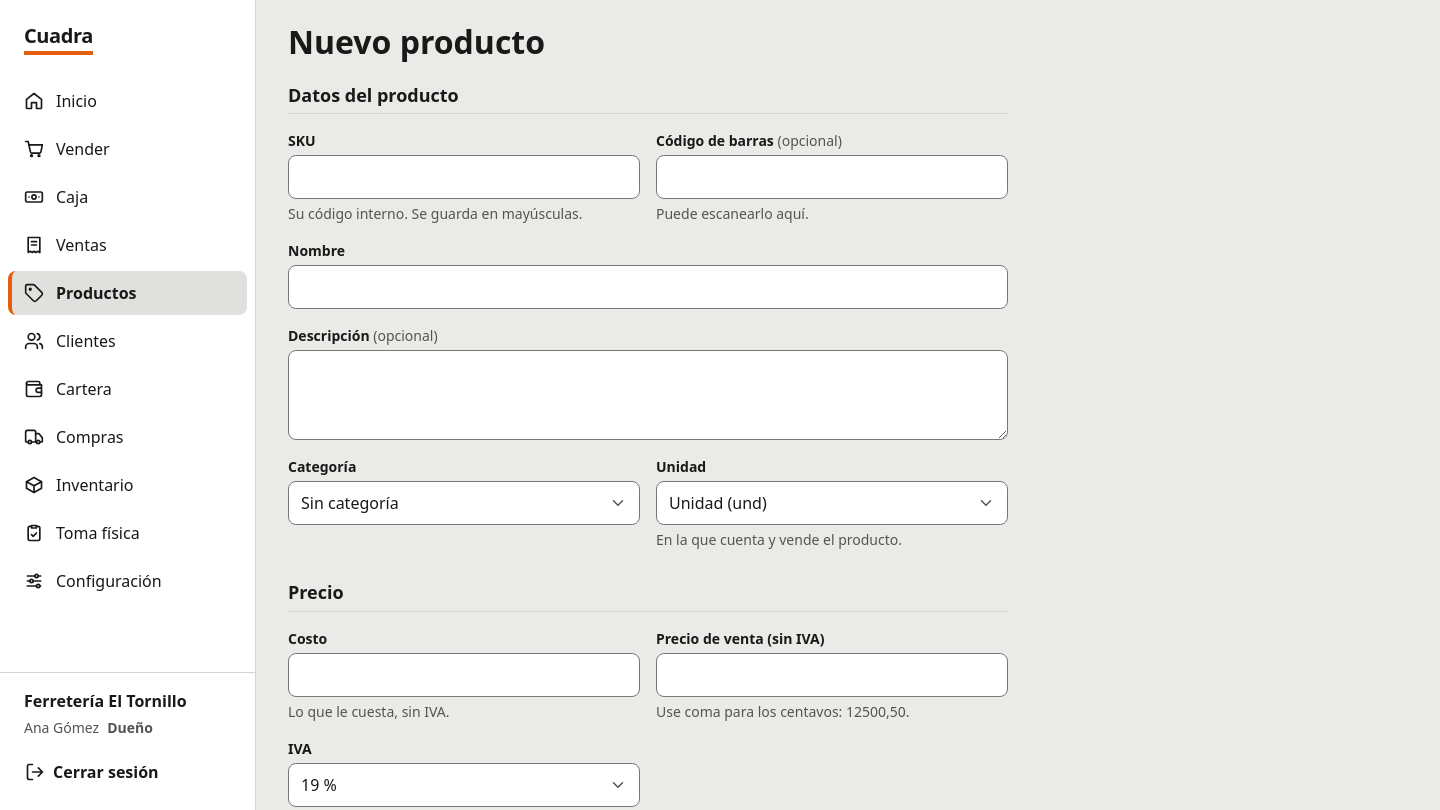
Scenario: ProductFormPage: crear un producto › ofrece las unidades de la empresa
Click the dropdown labelled "Unidad". click: [718, 503]
box: [656,482,1008,526]
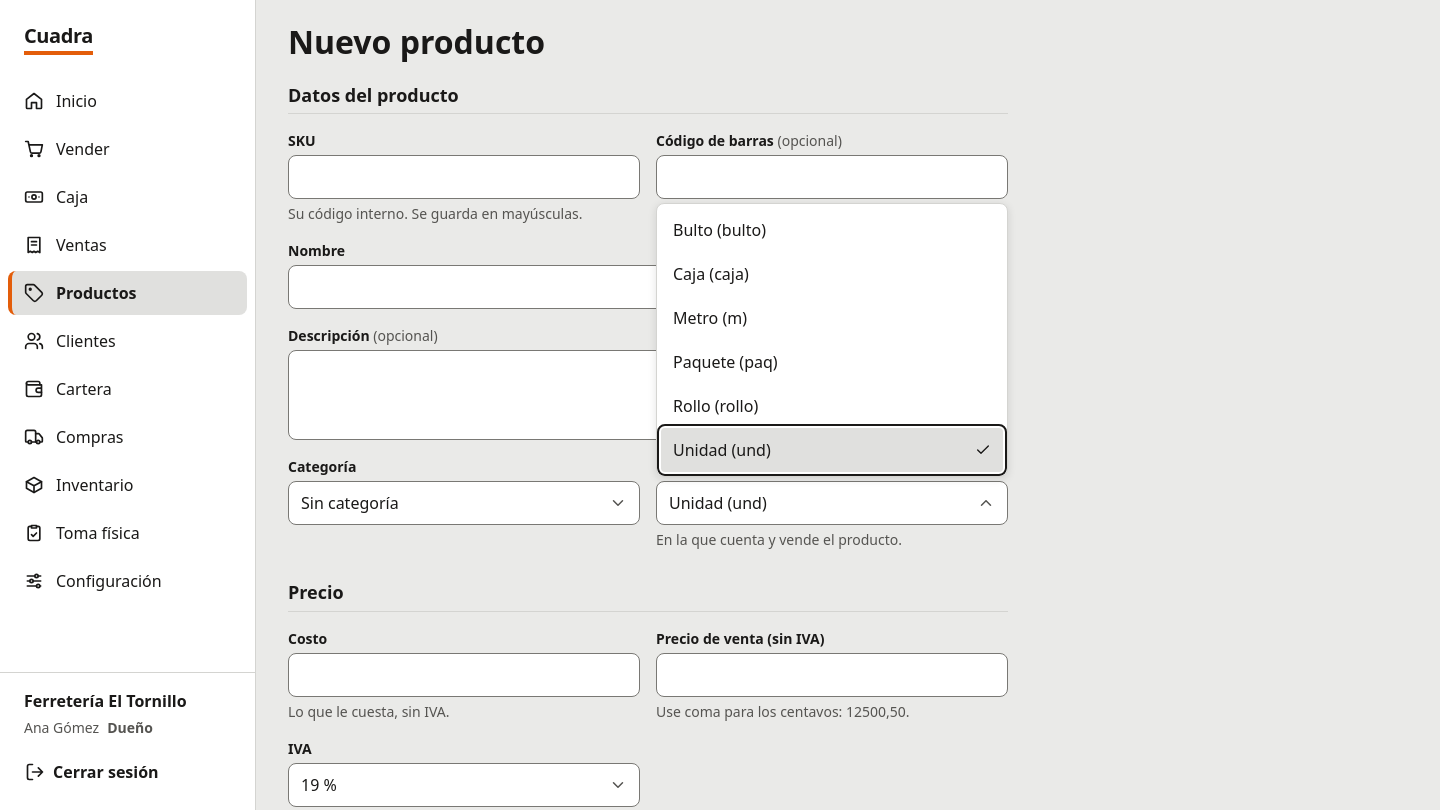
Check: the options read "Bulto (bulto)", "Caja (caja)", "Metro (m)", "Paquete (paq)", "Rollo (rollo)", "Unidad (und)", in this order, box [673,219,766,241]; [673,263,749,285]; [673,307,747,329]; [673,351,778,373]; [673,395,758,417]; [661,428,1003,472]
